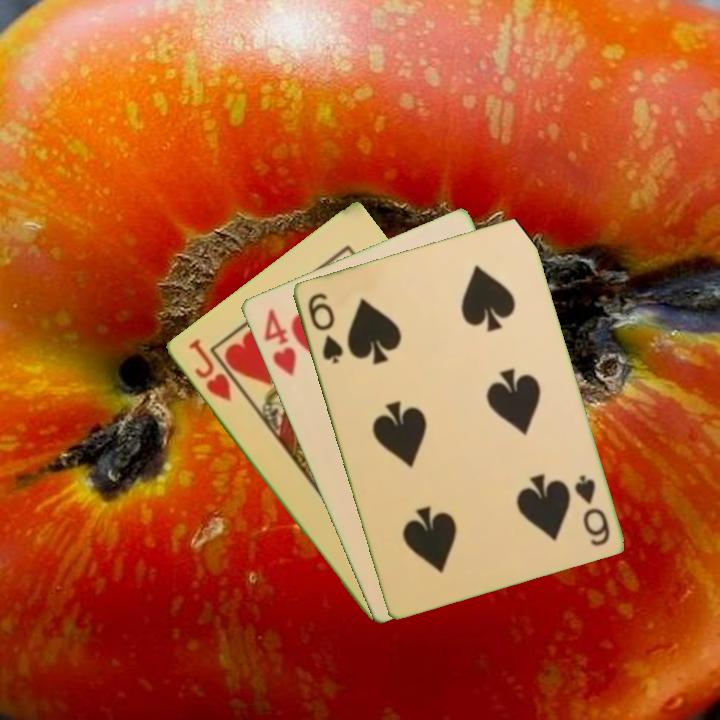4h: (260, 304, 299, 379)
6s: (303, 289, 346, 367), (570, 470, 612, 549)
Jh: (184, 335, 234, 405)
